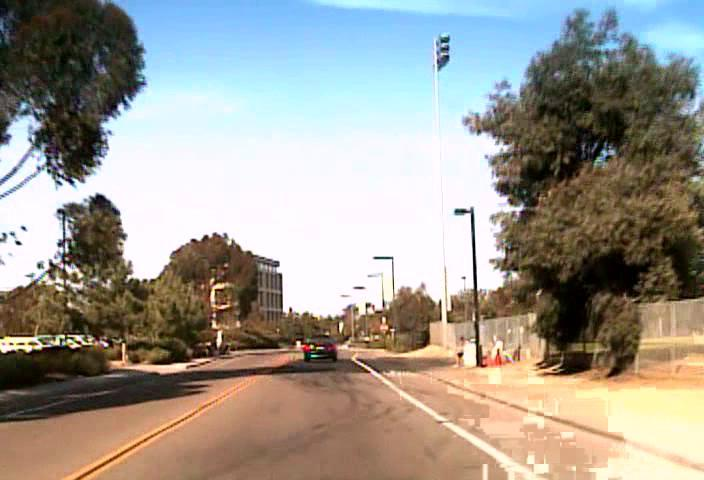stop: (378, 323, 388, 332)
